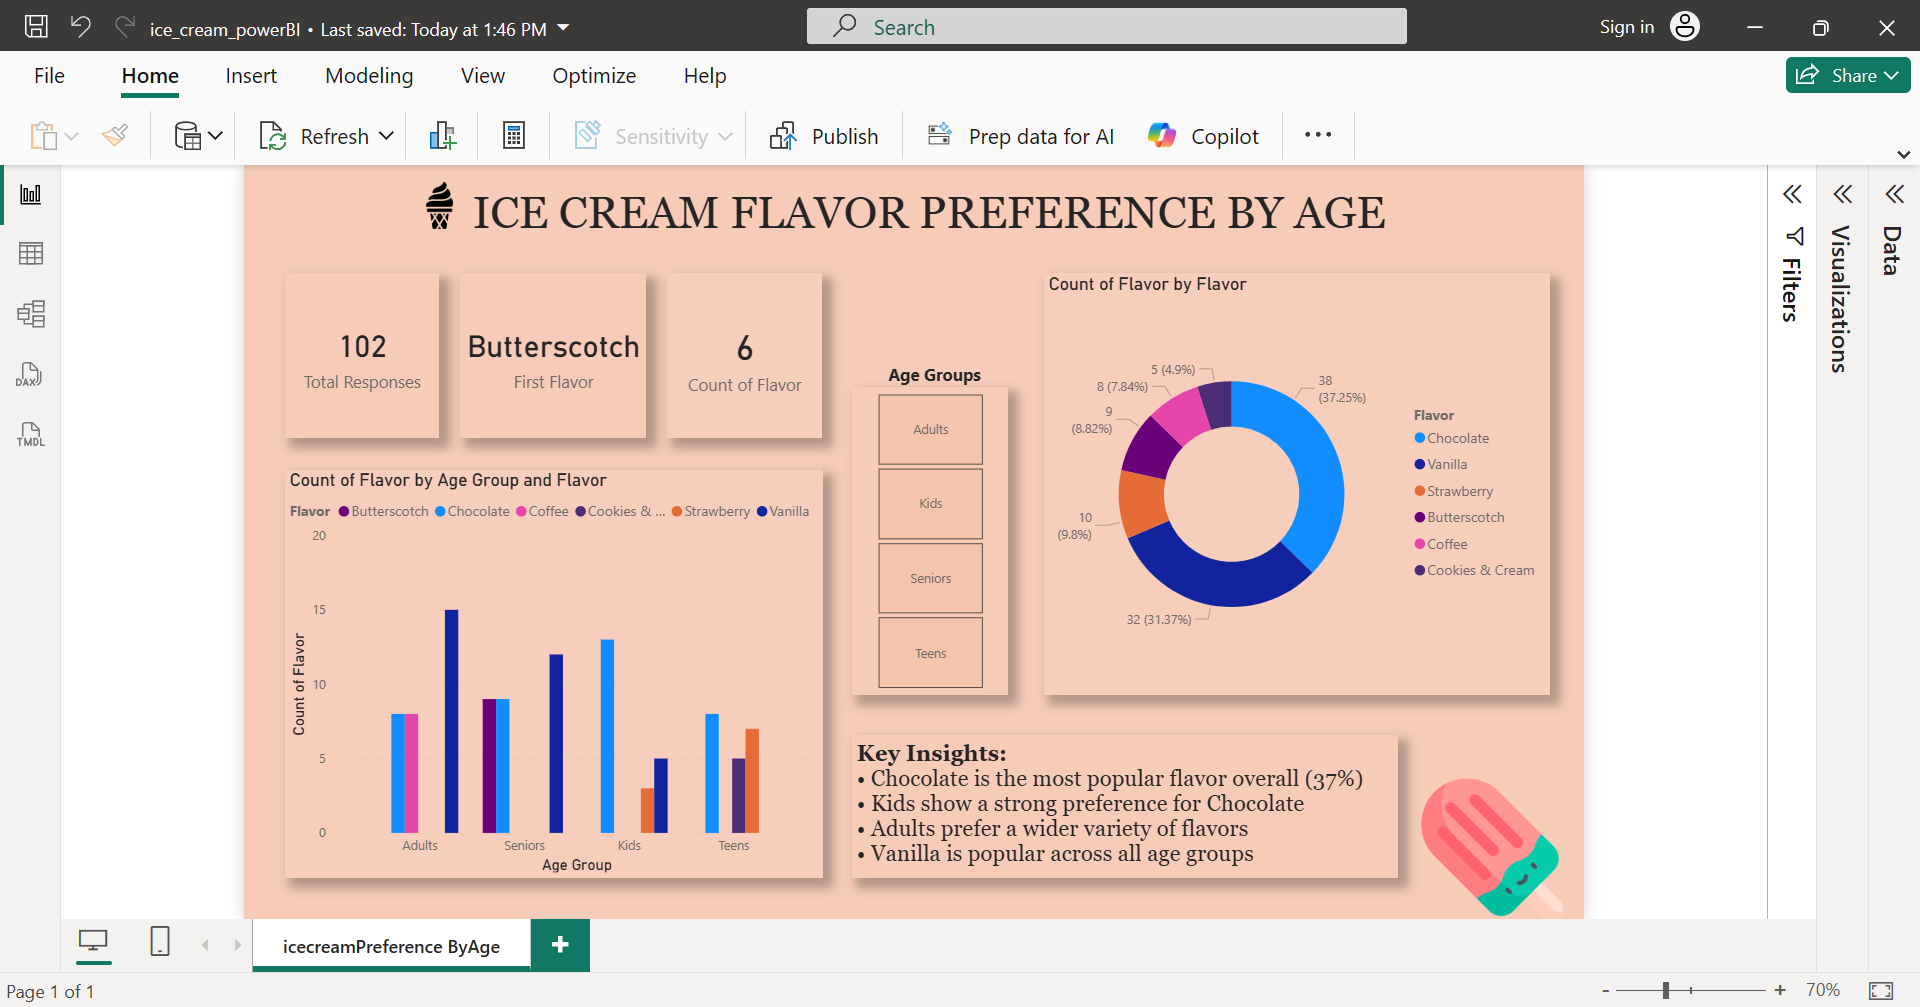

What the dashboard file says about the page in this screenshot:
{"tool":"powerbi","page":{"name":"icecreamPreference ByAge","canvas":[1280,720],"ordinal":0},"visuals":[{"type":"clusteredColumnChart","fields":{"Category":["ice_cream_db ice_cream_age_flavor.Age Group"],"Y":["CountNonNull(ice_cream_db ice_cream_age_flavor.Flavor)"],"Series":["ice_cream_db ice_cream_age_flavor.Flavor"]},"box":[38.2,291.1,513.8,389.7],"z":0},{"type":"donutChart","fields":{"Category":["ice_cream_db ice_cream_age_flavor.Flavor"],"Y":["CountNonNull(ice_cream_db ice_cream_age_flavor.Flavor)"]},"box":[763.5,103.4,483.5,402.4],"z":1000},{"type":"slicer","fields":{"Values":["ice_cream_db ice_cream_age_flavor.Age Group"]},"box":[580.6,211.6,149.5,294.3],"z":2000},{"type":"image","box":[1102.3,585.3,178.1,135.2],"z":3000},{"type":"textbox","box":[213.1,15.9,916.2,70],"z":4000},{"type":"textbox","box":[610.8,182.9,119.3,35],"z":5000},{"type":"card","fields":{"Values":["Count(ice_cream_db ice_cream_age_flavor.Flavor)"]},"box":[404,103.4,147.9,157.5],"z":5001},{"type":"card","fields":{"Values":["ice_cream_db ice_cream_age_flavor.Total Responses"]},"box":[38.2,103.4,147.9,157.5],"z":5002},{"type":"card","fields":{"Values":["Min(ice_cream_db ice_cream_age_flavor.Flavor)"]},"box":[206.8,103.4,178.1,157.5],"z":5003},{"type":"image","box":[111.3,15.9,149.5,46.1],"z":5004},{"type":"textbox","box":[580.6,544,521.7,136.8],"z":5005}]}

Visuals, with their boxes on the page's 1280x720 design canvas (x1, y1, x2, y2). These are canvas units, not pixel positions in the 1920x1007 screenshot, which may show the page scaled, cropped or inside an application window:
clusteredColumnChart - ice_cream_db ice_cream_age_flavor.Age Group x CountNonNull(ice_cream_db ice_cream_age_flavor.Flavor): {"left": 38, "top": 291, "right": 552, "bottom": 681}
donutChart - ice_cream_db ice_cream_age_flavor.Flavor x CountNonNull(ice_cream_db ice_cream_age_flavor.Flavor): {"left": 764, "top": 103, "right": 1247, "bottom": 506}
slicer - ice_cream_db ice_cream_age_flavor.Age Group: {"left": 581, "top": 212, "right": 730, "bottom": 506}
image: {"left": 1102, "top": 585, "right": 1280, "bottom": 720}
textbox: {"left": 213, "top": 16, "right": 1129, "bottom": 86}
textbox: {"left": 611, "top": 183, "right": 730, "bottom": 218}
card - Count(ice_cream_db ice_cream_age_flavor.Flavor): {"left": 404, "top": 103, "right": 552, "bottom": 261}
card - ice_cream_db ice_cream_age_flavor.Total Responses: {"left": 38, "top": 103, "right": 186, "bottom": 261}
card - Min(ice_cream_db ice_cream_age_flavor.Flavor): {"left": 207, "top": 103, "right": 385, "bottom": 261}
image: {"left": 111, "top": 16, "right": 261, "bottom": 62}
textbox: {"left": 581, "top": 544, "right": 1102, "bottom": 681}
